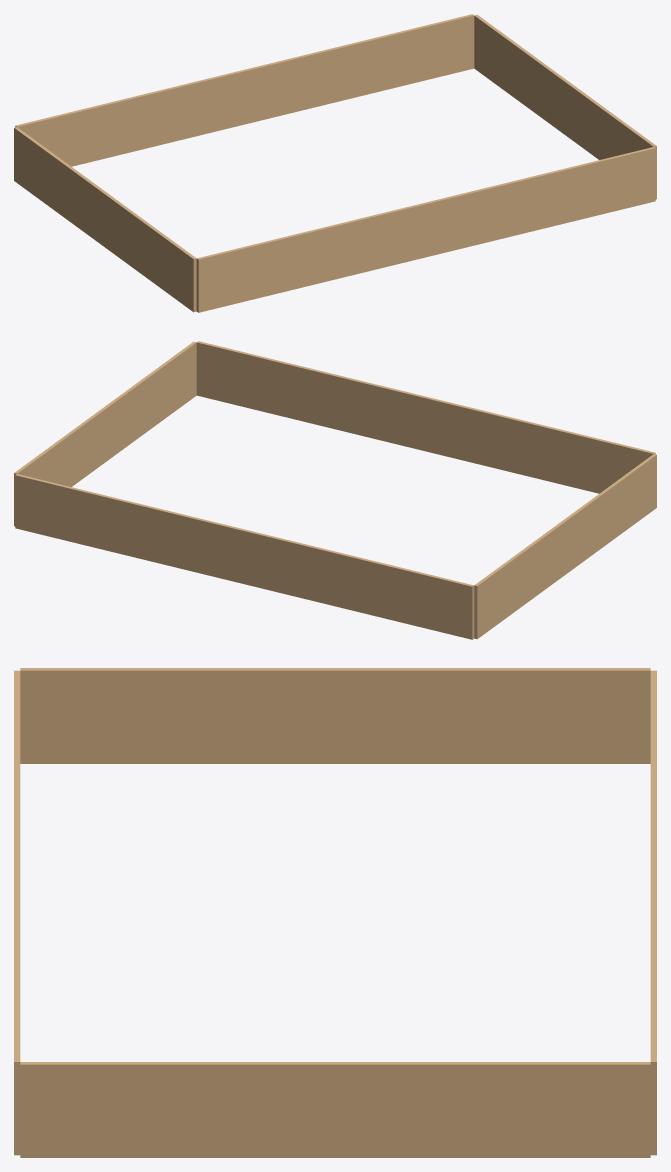
The picture shows the model from 3 angles, top to bottom: view 1: azimuth 30°, elevation 25°; view 2: azimuth 150°, elevation 25°; view 3: azimuth 270°, elevation 25°; orthographic projection. The views are drawn at different scales.
Parts seen in each view (by area): view 1: form_2; view 2: form_2; view 3: form_2.
Part boxes in pixels (x1,y1,x2,y2): form_2: (14,14,656,312); form_2: (14,341,656,639); form_2: (14,668,656,1157).
Size of the model in its own units: 7.3 by 0.8 by 5.
